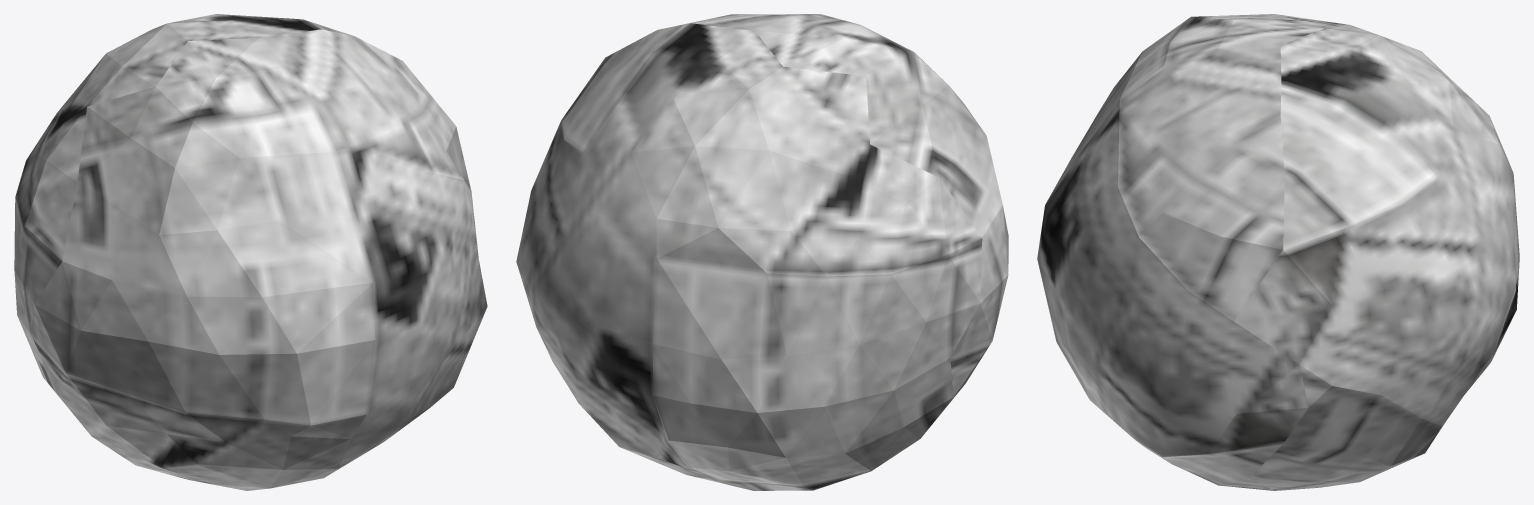
File: ballpaper.FBX
The picture shows the model from 3 angles, left to right: view 1: azimuth 30°, elevation 25°; view 2: azimuth 150°, elevation 25°; view 3: azimuth 270°, elevation 25°; orthographic projection.
Visible parts, largest first — view 1: Ball_Paper_Part2, Ball_Paper_Part1; view 2: Ball_Paper_Part2, Ball_Paper_Part1; view 3: Ball_Paper_Part1, Ball_Paper_Part2.
Boxes of the visible parts, x1,y1,x2,y2 form: Ball_Paper_Part2: (14, 14, 375, 490); Ball_Paper_Part1: (217, 14, 487, 472); Ball_Paper_Part2: (631, 14, 1008, 490); Ball_Paper_Part1: (516, 14, 816, 479); Ball_Paper_Part1: (1037, 45, 1519, 490); Ball_Paper_Part2: (1046, 14, 1512, 202).
Bounding box in the file's own units: 4.01 × 4 × 4.
Materials: 1 (1 with a texture image).
